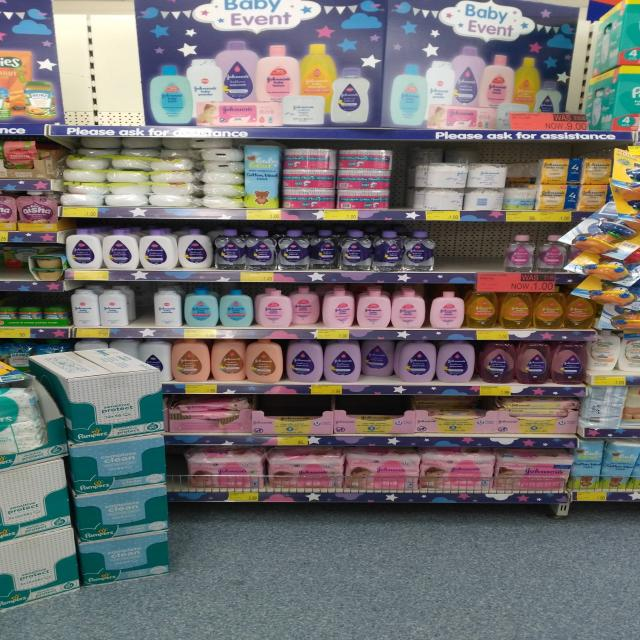void: (468, 227, 498, 284), (436, 228, 466, 284), (126, 285, 155, 339)
